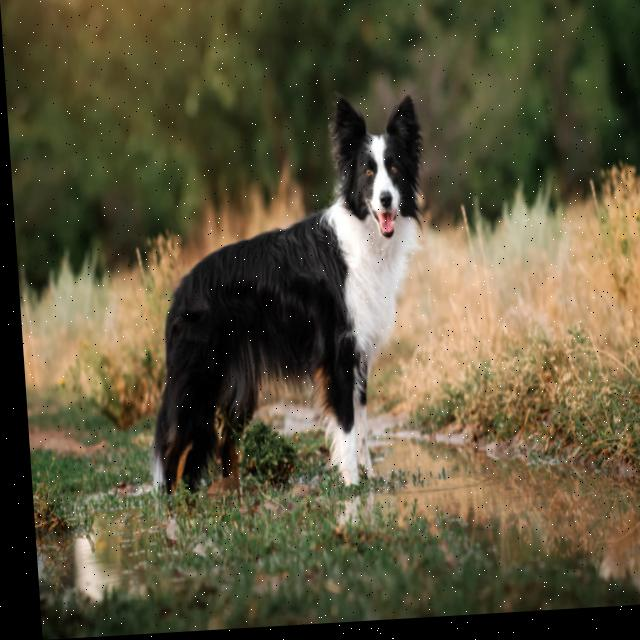BORDER_COLLIE: (115, 77, 457, 526)
